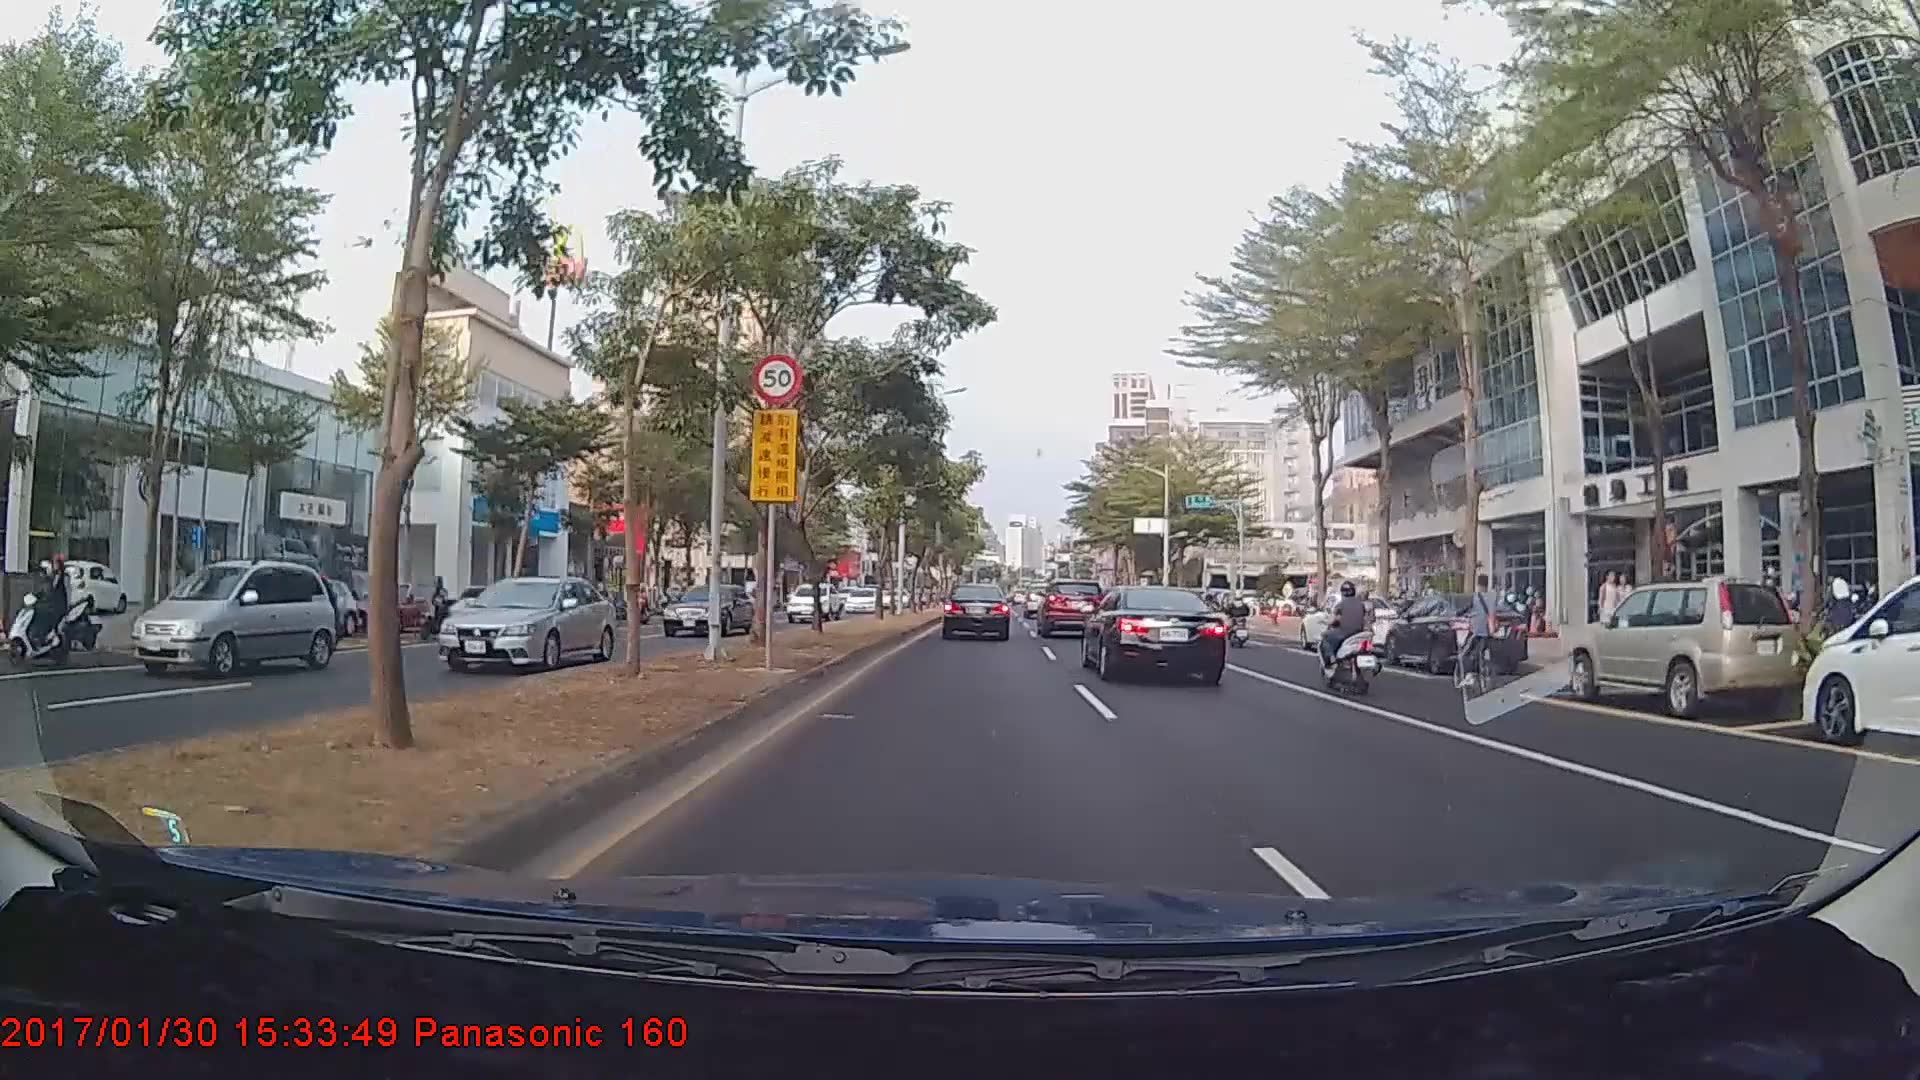pedestrian: (1597, 572, 1623, 653)
rider: (1309, 578, 1390, 700), (1446, 574, 1514, 702), (19, 553, 89, 669), (1350, 585, 1403, 677), (1222, 593, 1257, 650)
vehicle: (1580, 575, 1794, 716), (131, 557, 338, 680), (1800, 567, 1920, 750), (434, 576, 618, 674), (1080, 579, 1229, 686), (1382, 592, 1528, 674), (1295, 591, 1403, 654), (659, 579, 756, 637), (266, 578, 359, 637), (348, 579, 443, 633), (942, 581, 1012, 641), (1038, 581, 1099, 636), (784, 582, 842, 624), (844, 585, 879, 614)
